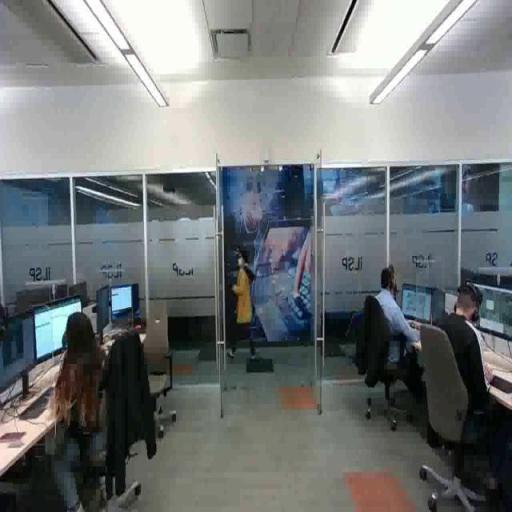person: (36, 307, 131, 512), (433, 278, 512, 508), (358, 260, 437, 428), (228, 255, 259, 364)
